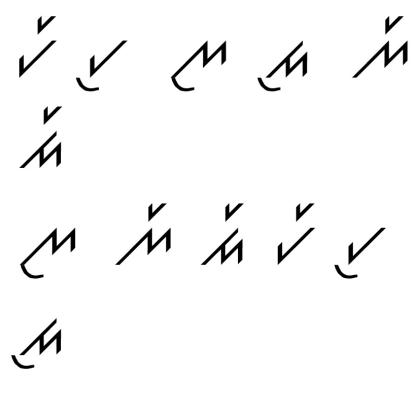dar: (13, 100, 71, 172), (196, 198, 253, 269)
daw: (5, 310, 66, 374), (247, 34, 311, 94)
nar: (110, 191, 178, 271), (338, 8, 414, 78)
naw: (158, 36, 232, 97), (17, 218, 82, 284)
par: (7, 8, 63, 78), (269, 193, 317, 265)
paw: (329, 210, 389, 280), (69, 30, 130, 94)
